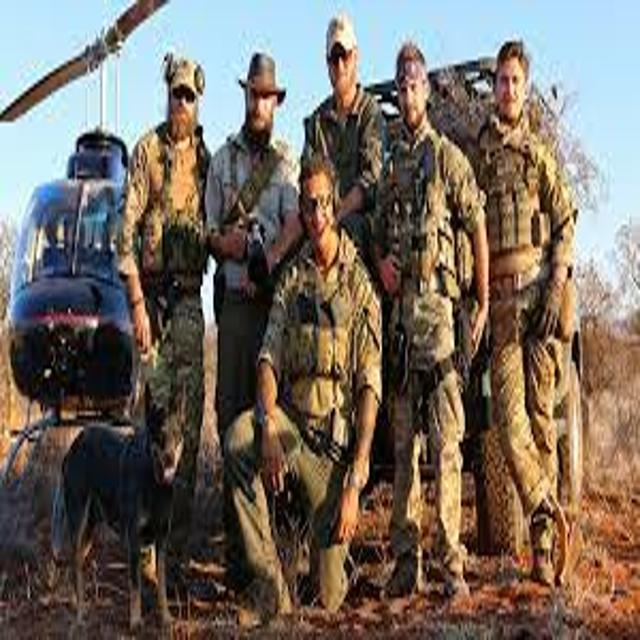dog: (23, 369, 223, 637)
ranger: (436, 24, 622, 608), (74, 33, 265, 588), (203, 137, 418, 627), (329, 33, 499, 616), (168, 33, 350, 486), (280, 1, 432, 267)
